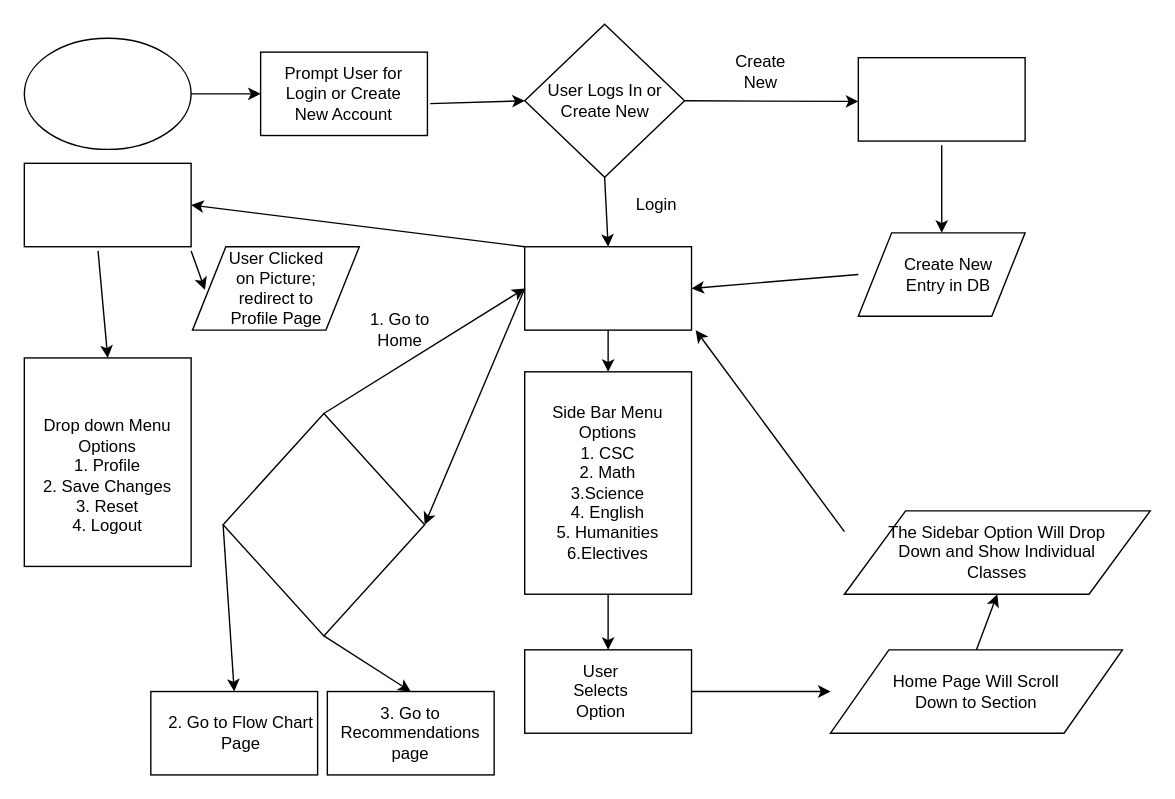
This 1175x799 diagram has some shape labels left out. Each missing label, with the centre of its shape:
Display Home Screen: (607,287)
Start: (107,93)
Top Menu 1. Home 2. Flow Chart 3. Recommendations: (323,524)
User Enters Personal Information: (941,98)
User Profile Menu Top Right: (107,204)
